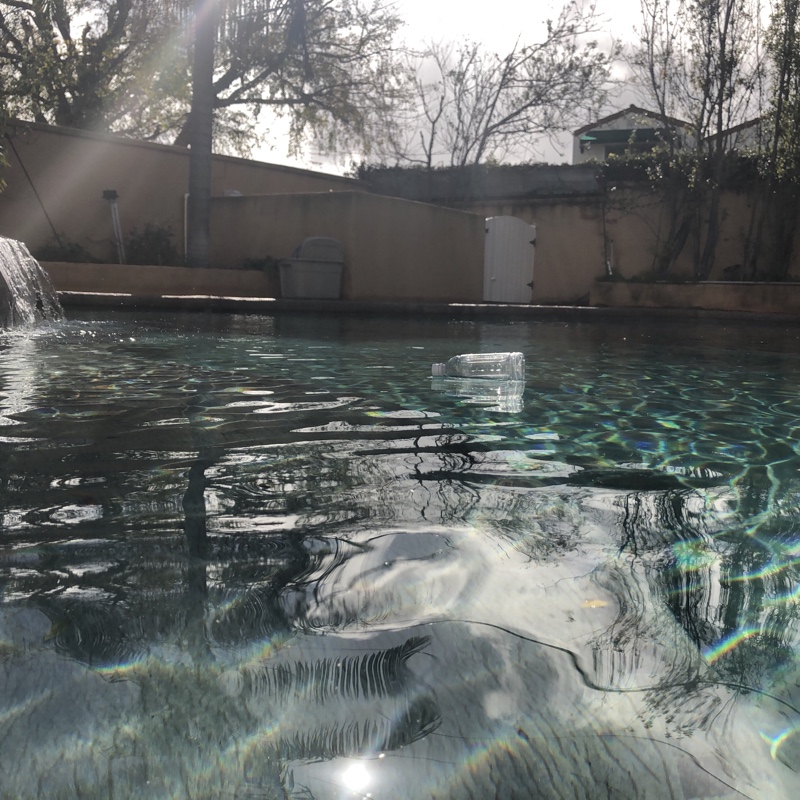Plastic Bottle: (425, 347, 526, 384)
